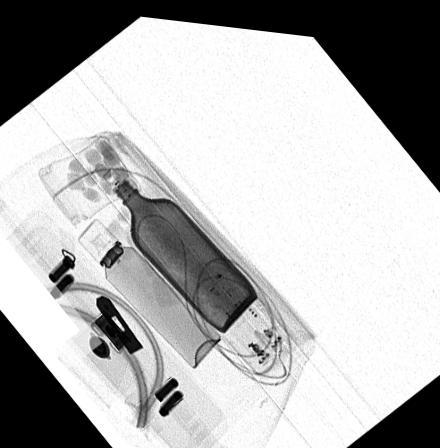Sprayer: (78, 216, 222, 365)
